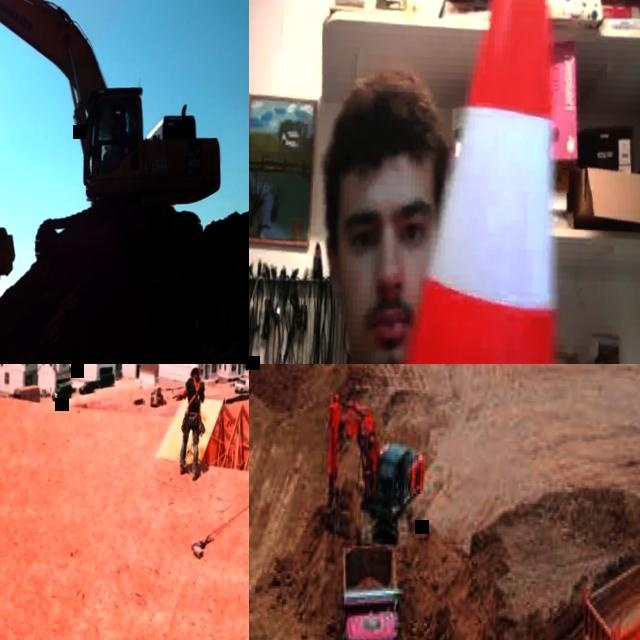Hardhat: (190, 364, 199, 375)
NO-Hardhat: (329, 75, 449, 187)
NO-Mask: (353, 288, 418, 364)
NO-Safety Vest: (186, 378, 202, 412)
Person: (253, 62, 456, 364), (178, 364, 205, 479), (102, 118, 126, 169)
Safety Cone: (332, 0, 613, 364)
machinery: (0, 0, 230, 268), (319, 389, 427, 544), (571, 484, 640, 640), (328, 536, 414, 640)
vehicle: (52, 382, 73, 401), (96, 372, 115, 388), (234, 374, 249, 393), (79, 379, 96, 394)
